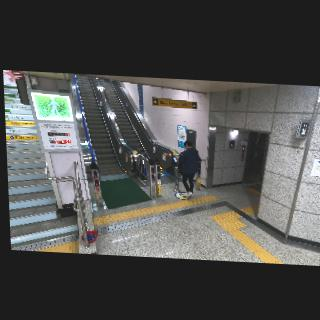normal: (176, 140, 202, 199)
